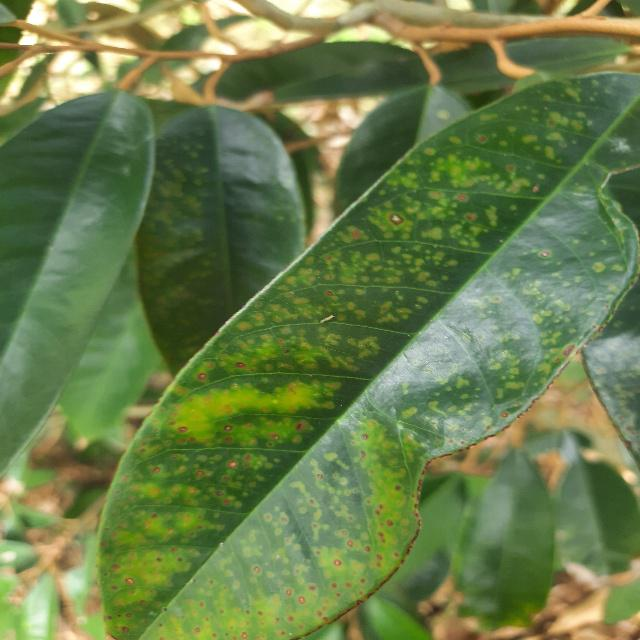Leaf Spot: (91, 65, 639, 639)
